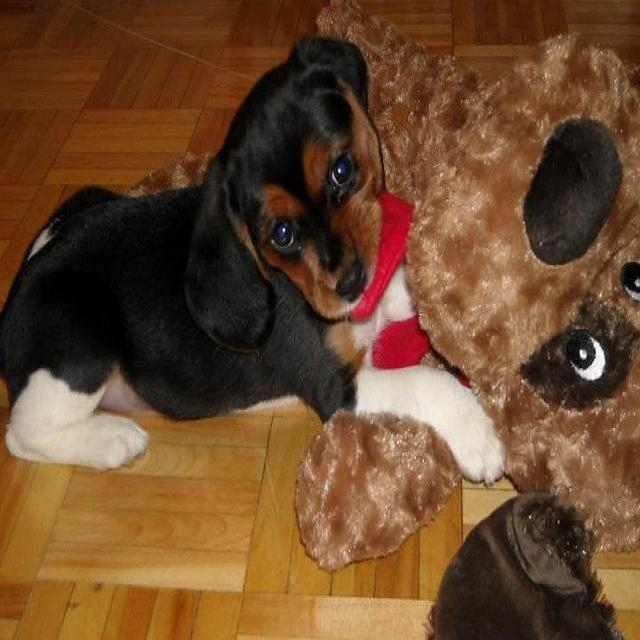dog: (0, 31, 505, 487)
